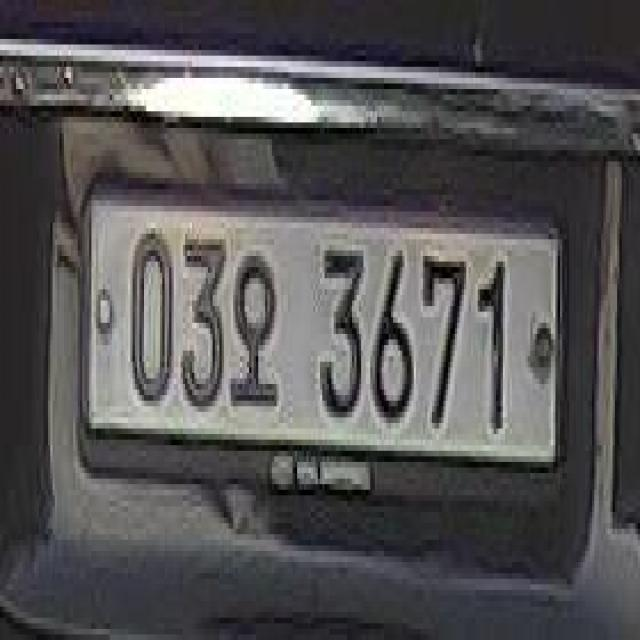illegal_plate: (83, 180, 568, 515)
